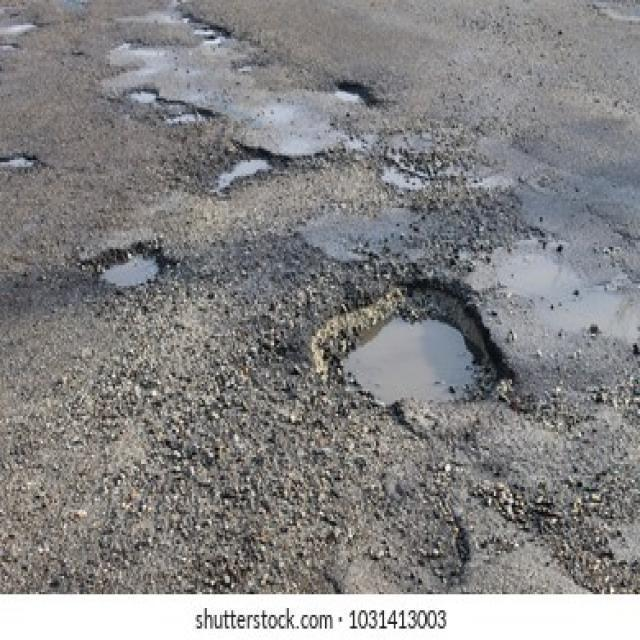pothole: (307, 270, 514, 417), (95, 240, 163, 291), (215, 149, 274, 190), (2, 146, 40, 174), (330, 78, 366, 103), (125, 85, 160, 108), (169, 108, 214, 124), (204, 32, 227, 46), (192, 25, 222, 34), (181, 14, 192, 23)
